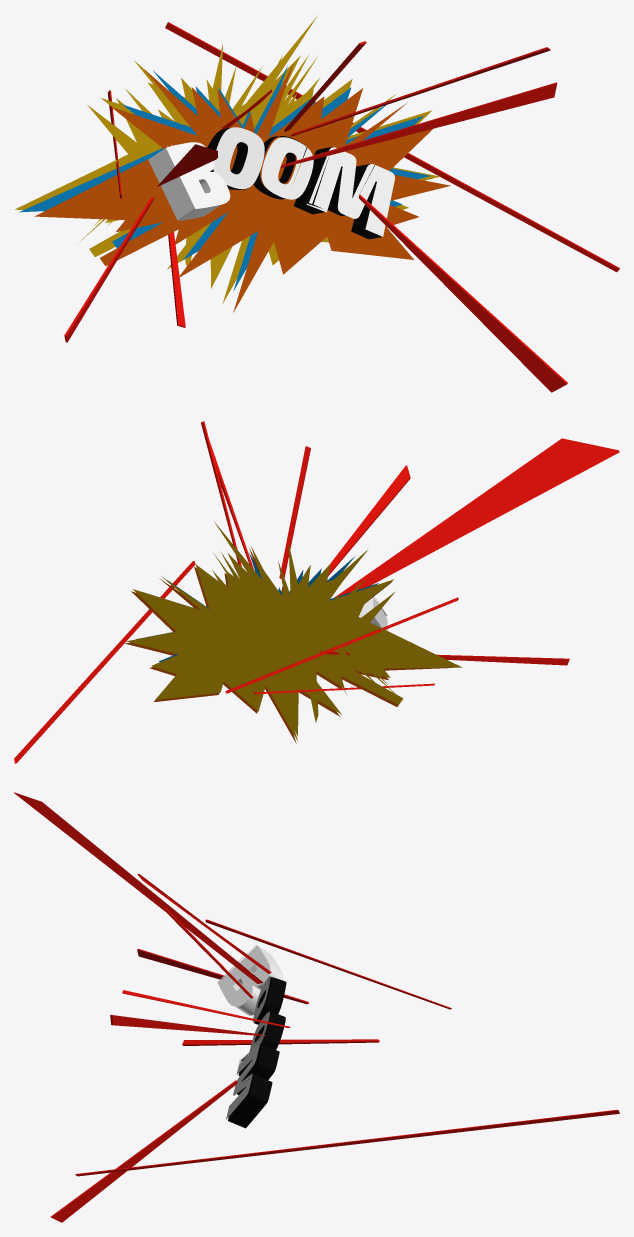
The model's file is boom_to_cook.glb.
3 renders of one model, top to bottom at view 1: azimuth 30°, elevation 25°; view 2: azimuth 150°, elevation 25°; view 3: azimuth 270°, elevation 25°, orthographic. The views are drawn at different scales.
Parts seen in each view (by area): view 1: BezierCurve.003, BezierCurve.004, BezierCurve.002, BezierCurve.005, mF, Cube.007, Cube.005, Cube.006, oF, Curve.005, Bvol, Mvol (+8 smaller); view 2: BezierCurve.004, BezierCurve.005, Cube.001, BezierCurve.003, Cube.006, Cube.002, Cube.010, Cube.009, Cube.003, Cube.004, BezierCurve.002; view 3: Cube.001, Cube.006, Mvol, Cube.007, bF, Cube.005, Bvol, Cube.008, Cube.010, mF, O1vol, Cube.009 (+1 smaller).
Boxes of the visible parts, x1=… form: BezierCurve.003: x1=34, y1=64, x2=450, y2=312; BezierCurve.004: x1=15, y1=55, x2=439, y2=303; BezierCurve.002: x1=19, y1=65, x2=430, y2=291; BezierCurve.005: x1=77, y1=15, x2=319, y2=288; mF: x1=307, y1=147, x2=394, y2=236; Cube.007: x1=359, y1=194, x2=567, y2=392; Cube.005: x1=280, y1=82, x2=557, y2=167; Cube.006: x1=165, y1=22, x2=619, y2=272; oF: x1=261, y1=137, x2=313, y2=199; Curve.005: x1=213, y1=127, x2=264, y2=189; Bvol: x1=148, y1=146, x2=220, y2=220; Mvol: x1=293, y1=147, x2=381, y2=239; BezierCurve.004: x1=127, y1=546, x2=462, y2=740; BezierCurve.005: x1=212, y1=521, x2=403, y2=736; Cube.001: x1=334, y1=438, x2=619, y2=597; BezierCurve.003: x1=125, y1=548, x2=452, y2=743; Cube.006: x1=14, y1=561, x2=195, y2=763; Cube.002: x1=328, y1=465, x2=410, y2=576; Cube.010: x1=225, y1=597, x2=458, y2=693; Cube.009: x1=320, y1=651, x2=569, y2=665; Cube.003: x1=279, y1=446, x2=310, y2=578; Cube.004: x1=201, y1=421, x2=241, y2=566; BezierCurve.002: x1=136, y1=552, x2=378, y2=661; Cube.001: x1=14, y1=792, x2=262, y2=983; Cube.006: x1=75, y1=1109, x2=619, y2=1176; Mvol: x1=228, y1=1044, x2=279, y2=1128; Cube.007: x1=50, y1=1080, x2=237, y2=1222; bF: x1=217, y1=944, x2=268, y2=1006; Cube.005: x1=110, y1=1014, x2=265, y2=1036; Bvol: x1=231, y1=945, x2=283, y2=1015; Cube.008: x1=182, y1=1039, x2=379, y2=1045; Cube.010: x1=205, y1=919, x2=451, y2=1009; mF: x1=226, y1=1043, x2=259, y2=1119; O1vol: x1=254, y1=977, x2=286, y2=1024; Cube.009: x1=137, y1=949, x2=308, y2=1004.
Size of the model in its own units: 17.75 by 11.39 by 22.57.
